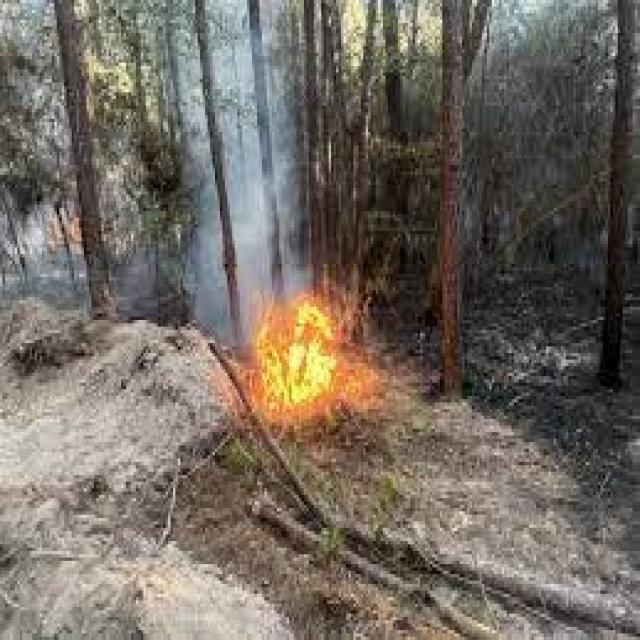Fire: (252, 280, 346, 414)
Smoke: (185, 29, 292, 301)
